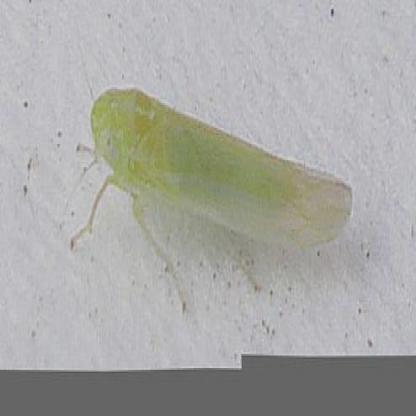green-leafhopper: (69, 87, 354, 313)
